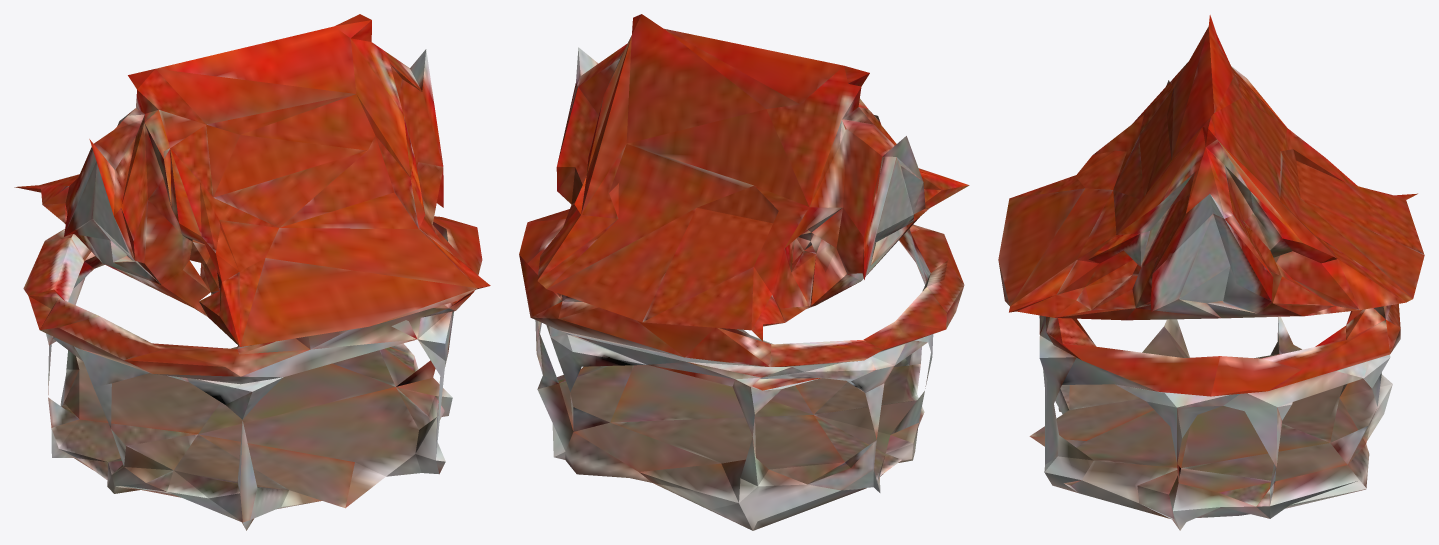
File: temple_sala_low.glb
3 views of the same model, side by side, from view 1: azimuth 30°, elevation 25°; view 2: azimuth 150°, elevation 25°; view 3: azimuth 270°, elevation 25° (orthographic). The views are drawn at different scales.
Parts seen in each view (by area): view 1: output_unwrapped; view 2: output_unwrapped; view 3: output_unwrapped.
Boxes of the visible parts, x1,y1,x2,y2 form: output_unwrapped: (14,14,490,530); output_unwrapped: (519,14,969,530); output_unwrapped: (998,15,1424,530).
Bounding box in the file's own units: 9 × 8.19 × 8.2.
1 material, 1 textured.
